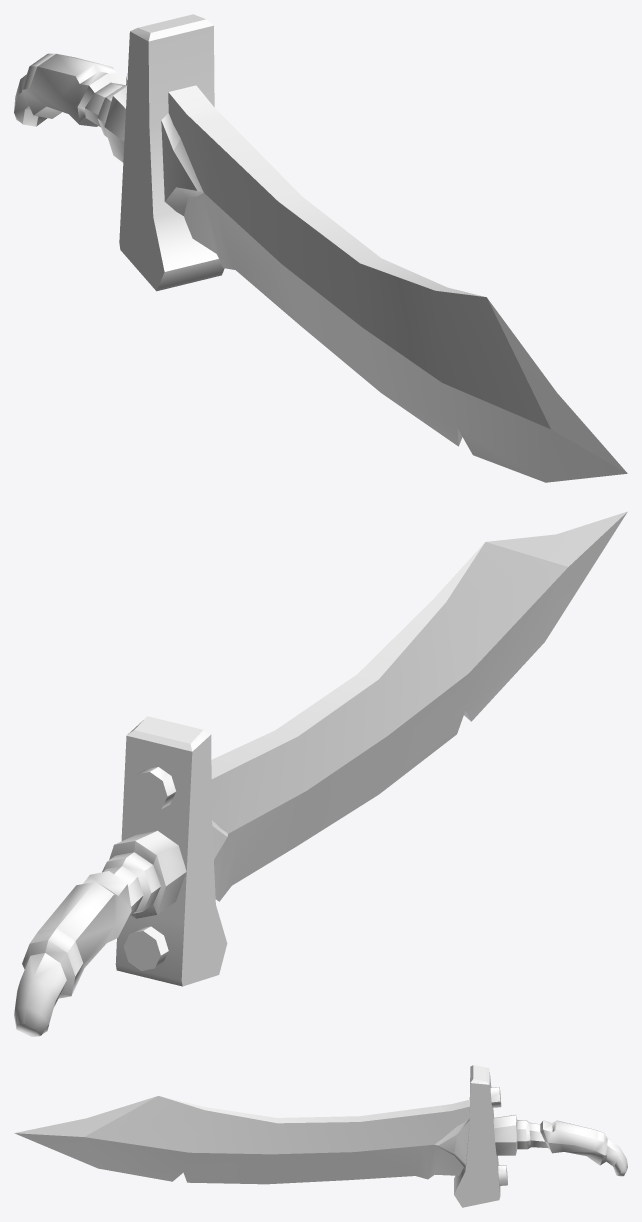
File: sword.glb
3 renders of one model, top to bottom at view 1: azimuth 30°, elevation 25°; view 2: azimuth 150°, elevation 25°; view 3: azimuth 270°, elevation 25°, orthographic. The views are drawn at different scales.
Parts seen in each view (by area): view 1: Object001_Object001_mtl_0; view 2: Object001_Object001_mtl_0; view 3: Object001_Object001_mtl_0.
Boxes of the visible parts, x1,y1,x2,y2 form: Object001_Object001_mtl_0: (14, 14, 627, 482); Object001_Object001_mtl_0: (14, 511, 627, 1036); Object001_Object001_mtl_0: (14, 1065, 627, 1207).
Size of the model in its own units: 0.1769 by 0.6458 by 2.82.
Materials: 1 (1 with a texture image).
